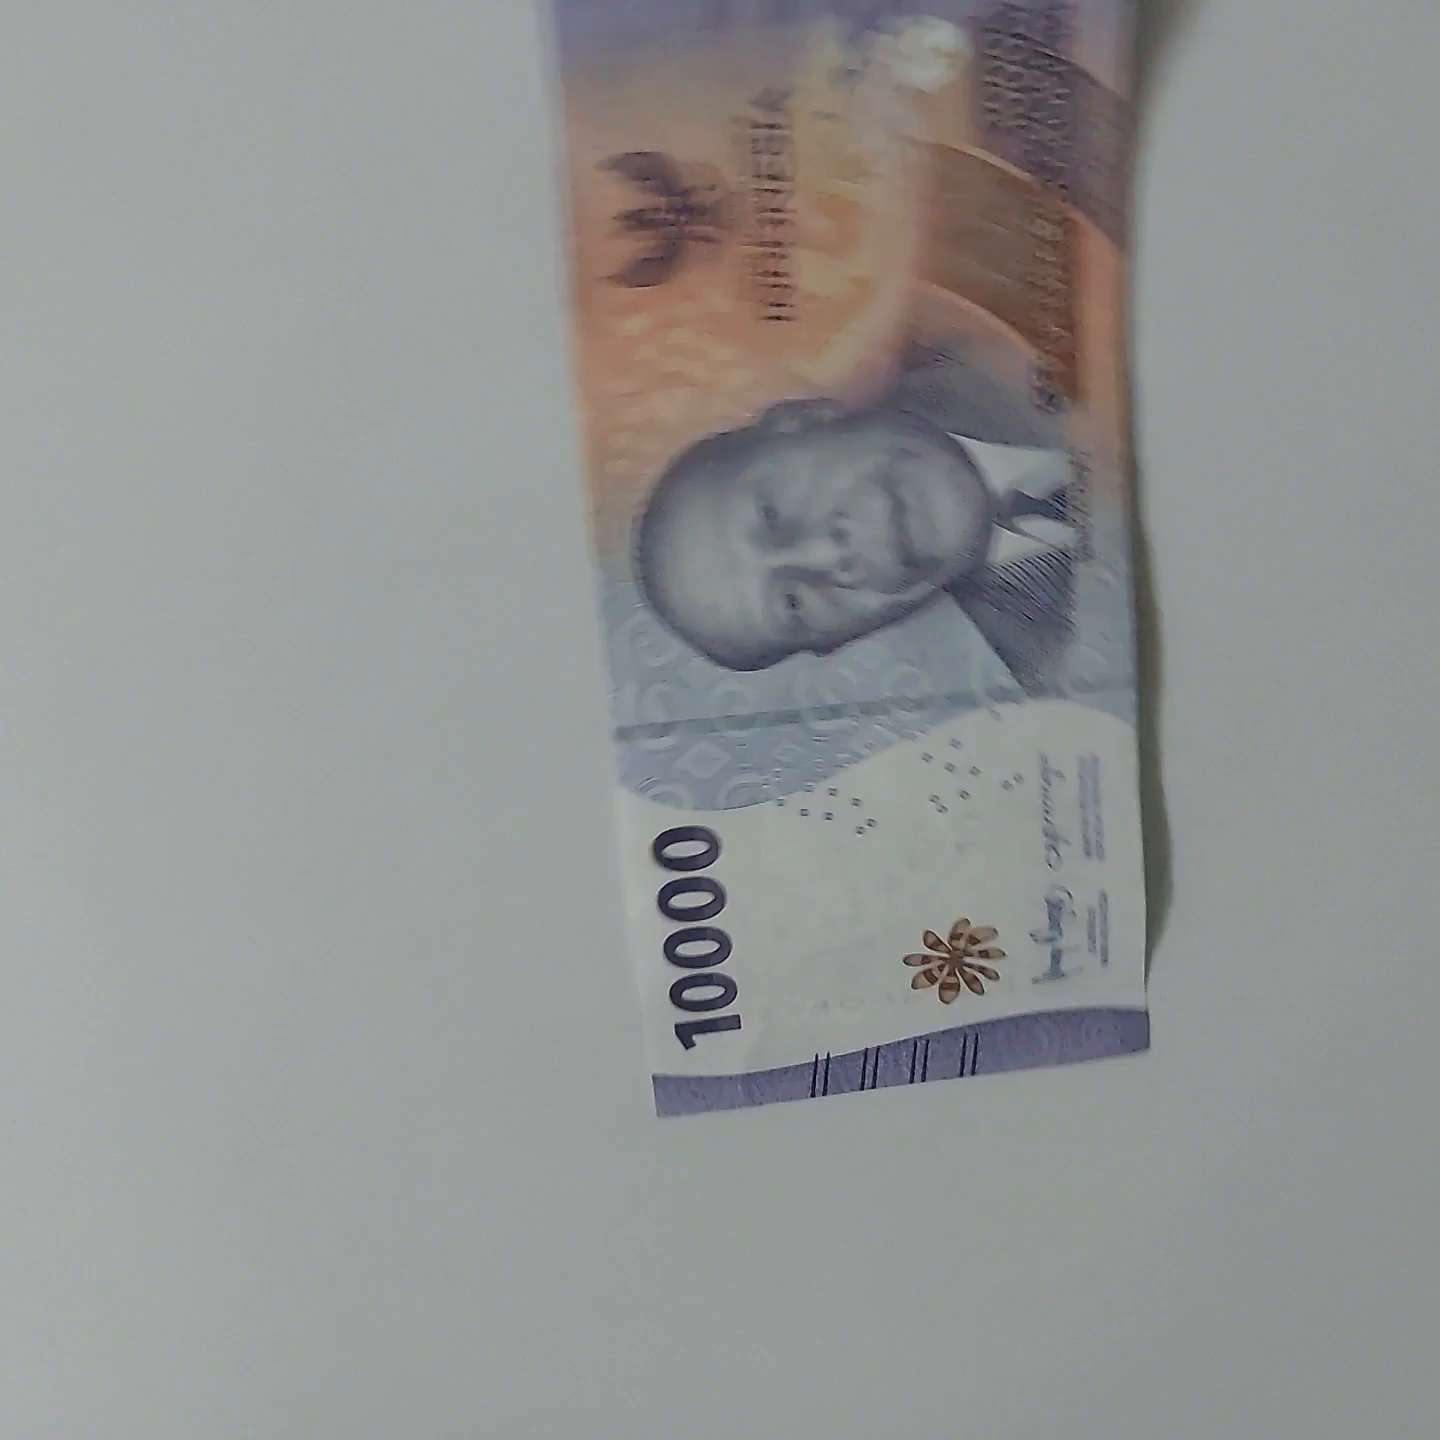10k: (495, 0, 1200, 1105)
